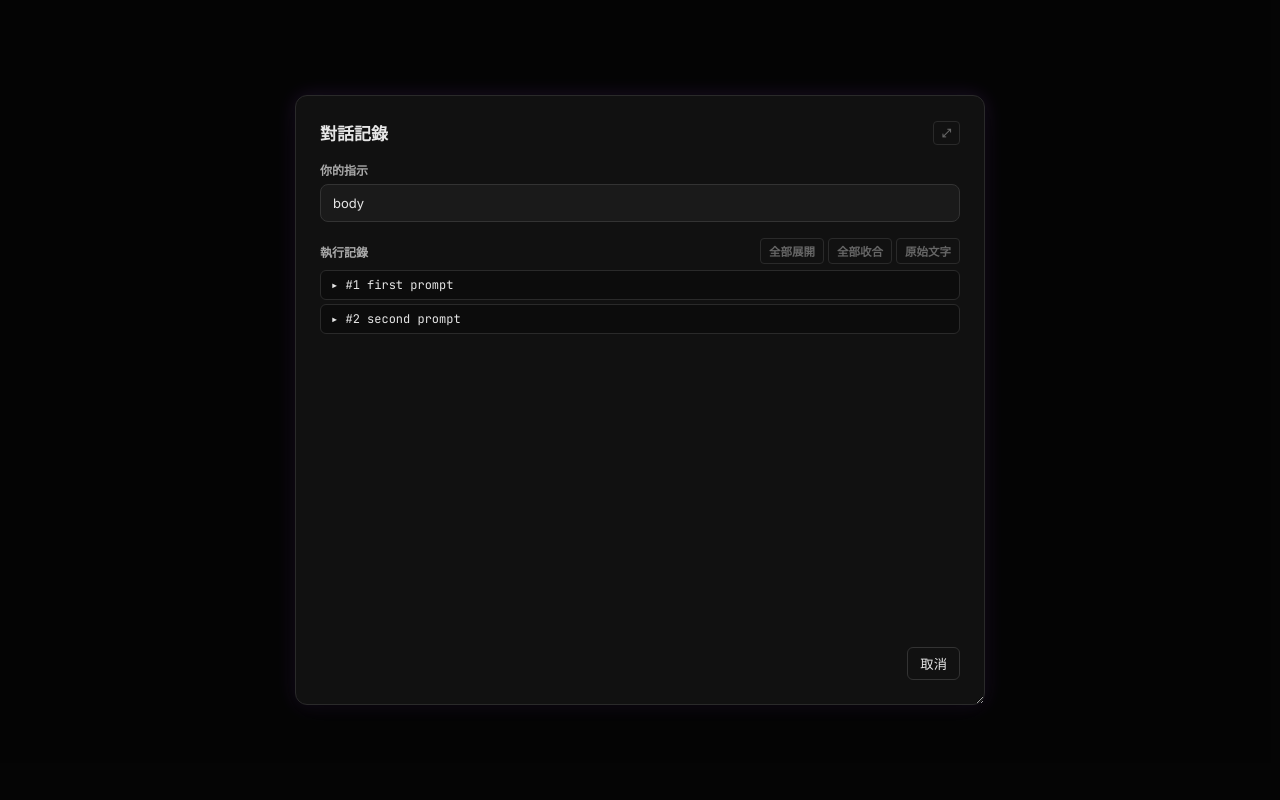
Scenario: TranscriptDialog › expand all / collapse all
Click the button "全部展開" at {"x": 792, "y": 251}, box [760, 238, 824, 264]
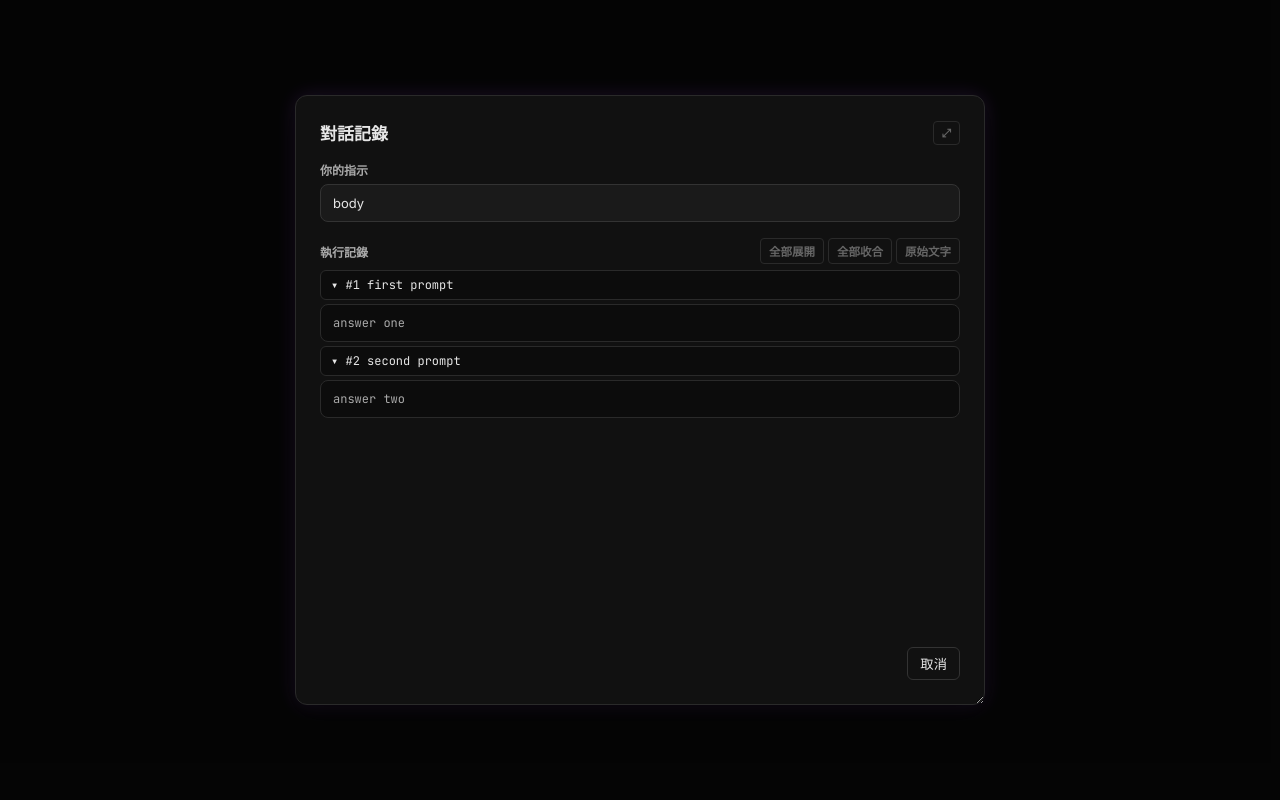
Expected: the text "answer one" is shown, [320, 304, 960, 342]
Expected: the text "answer two" is shown, [320, 380, 960, 418]
Click the button "全部收合" at {"x": 860, "y": 251}, box [828, 238, 892, 264]
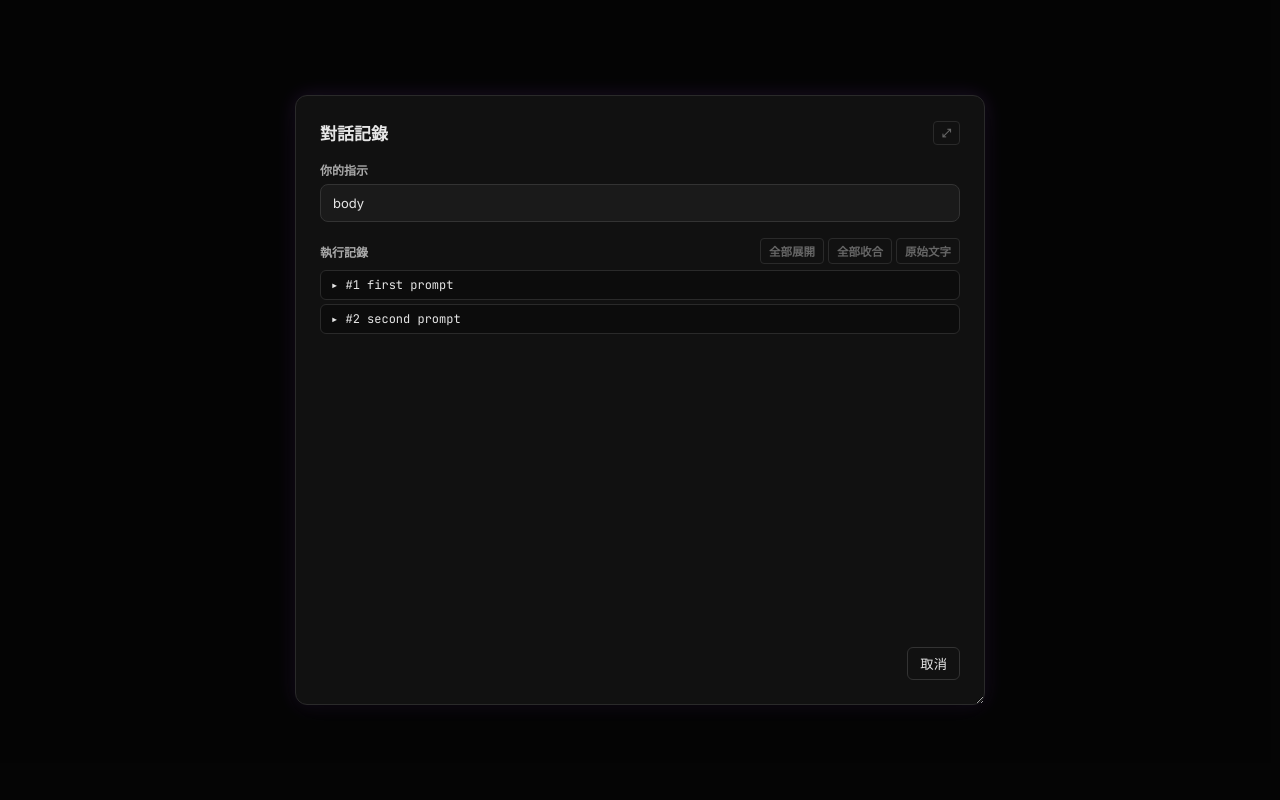
Expected: the text "answer one" is gone
